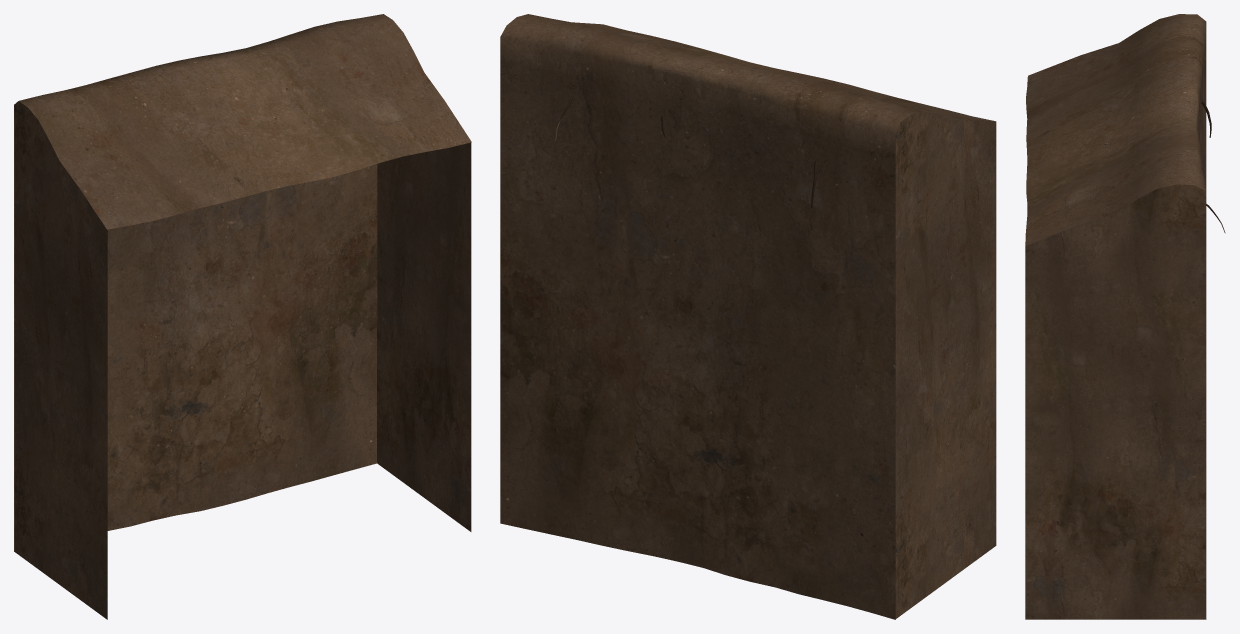
The model's file is S7U_EarthWall_2m.fbx.
3 renders of one model, left to right at view 1: azimuth 30°, elevation 25°; view 2: azimuth 150°, elevation 25°; view 3: azimuth 270°, elevation 25°, orthographic. The views are drawn at different scales.
Visible parts, largest first — view 1: S7U_EarthWall_2m; view 2: S7U_EarthWall_2m; view 3: S7U_EarthWall_2m.
Boxes of the visible parts, box(x1,y1,x2,y2) form: S7U_EarthWall_2m: box(14, 14, 471, 619); S7U_EarthWall_2m: box(500, 14, 996, 619); S7U_EarthWall_2m: box(1025, 14, 1225, 619).
Bounding box in the file's own units: 2 × 2.41 × 0.9947.
